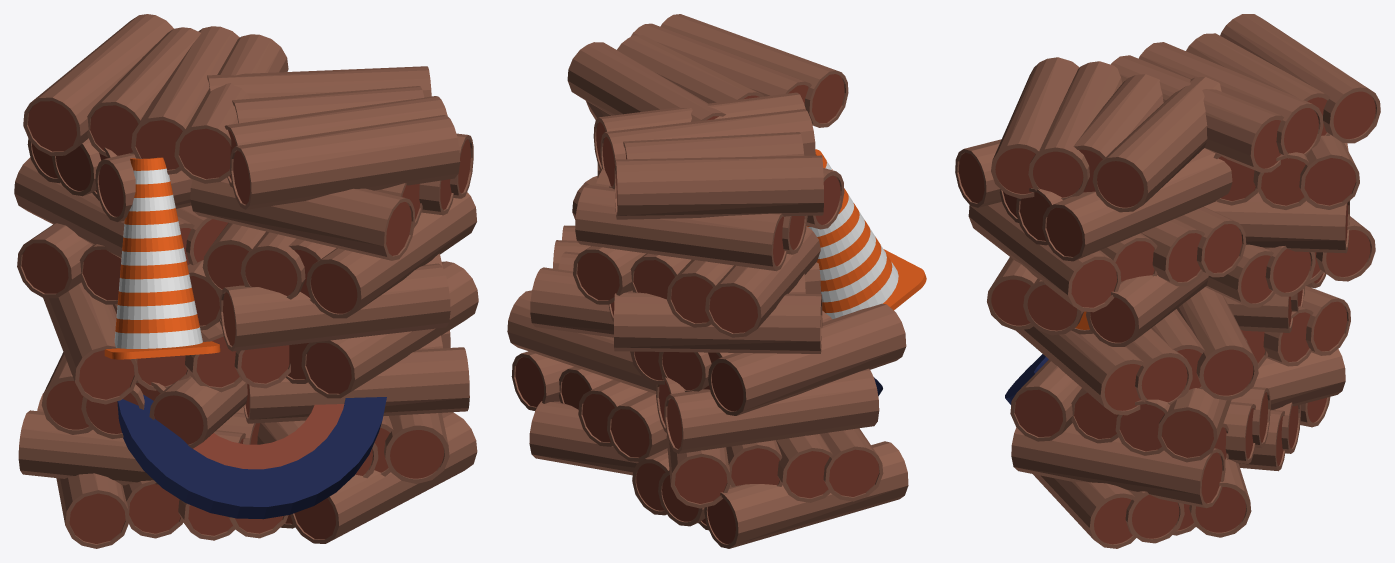
Rendered from presa.fbx.
The picture shows the model from 3 angles, left to right: view 1: azimuth 30°, elevation 25°; view 2: azimuth 150°, elevation 25°; view 3: azimuth 270°, elevation 25°; orthographic projection. The views are drawn at different scales.
Visible parts, largest first — view 1: Plane; view 2: Plane; view 3: Plane.
Boxes of the visible parts, x1,y1,x2,y2 form: Plane: [14, 14, 478, 548]; Plane: [507, 14, 926, 548]; Plane: [955, 14, 1380, 548].
Bounding box in the file's own units: 195 × 187 × 189.
